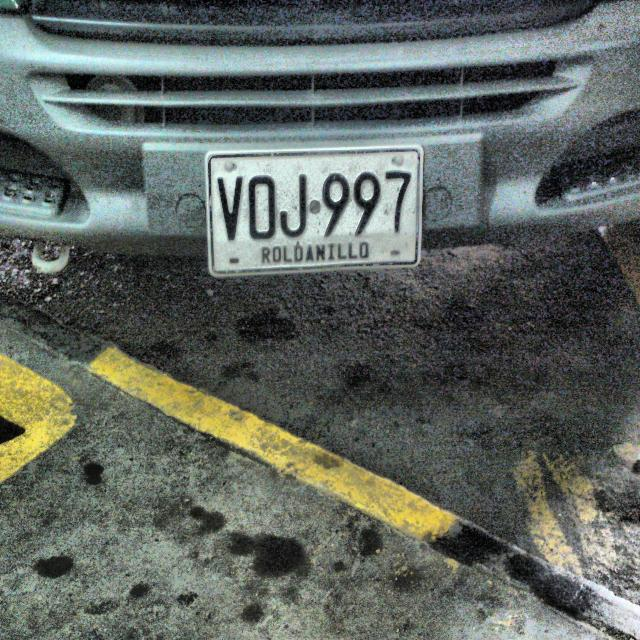plate: (205, 144, 424, 277)
